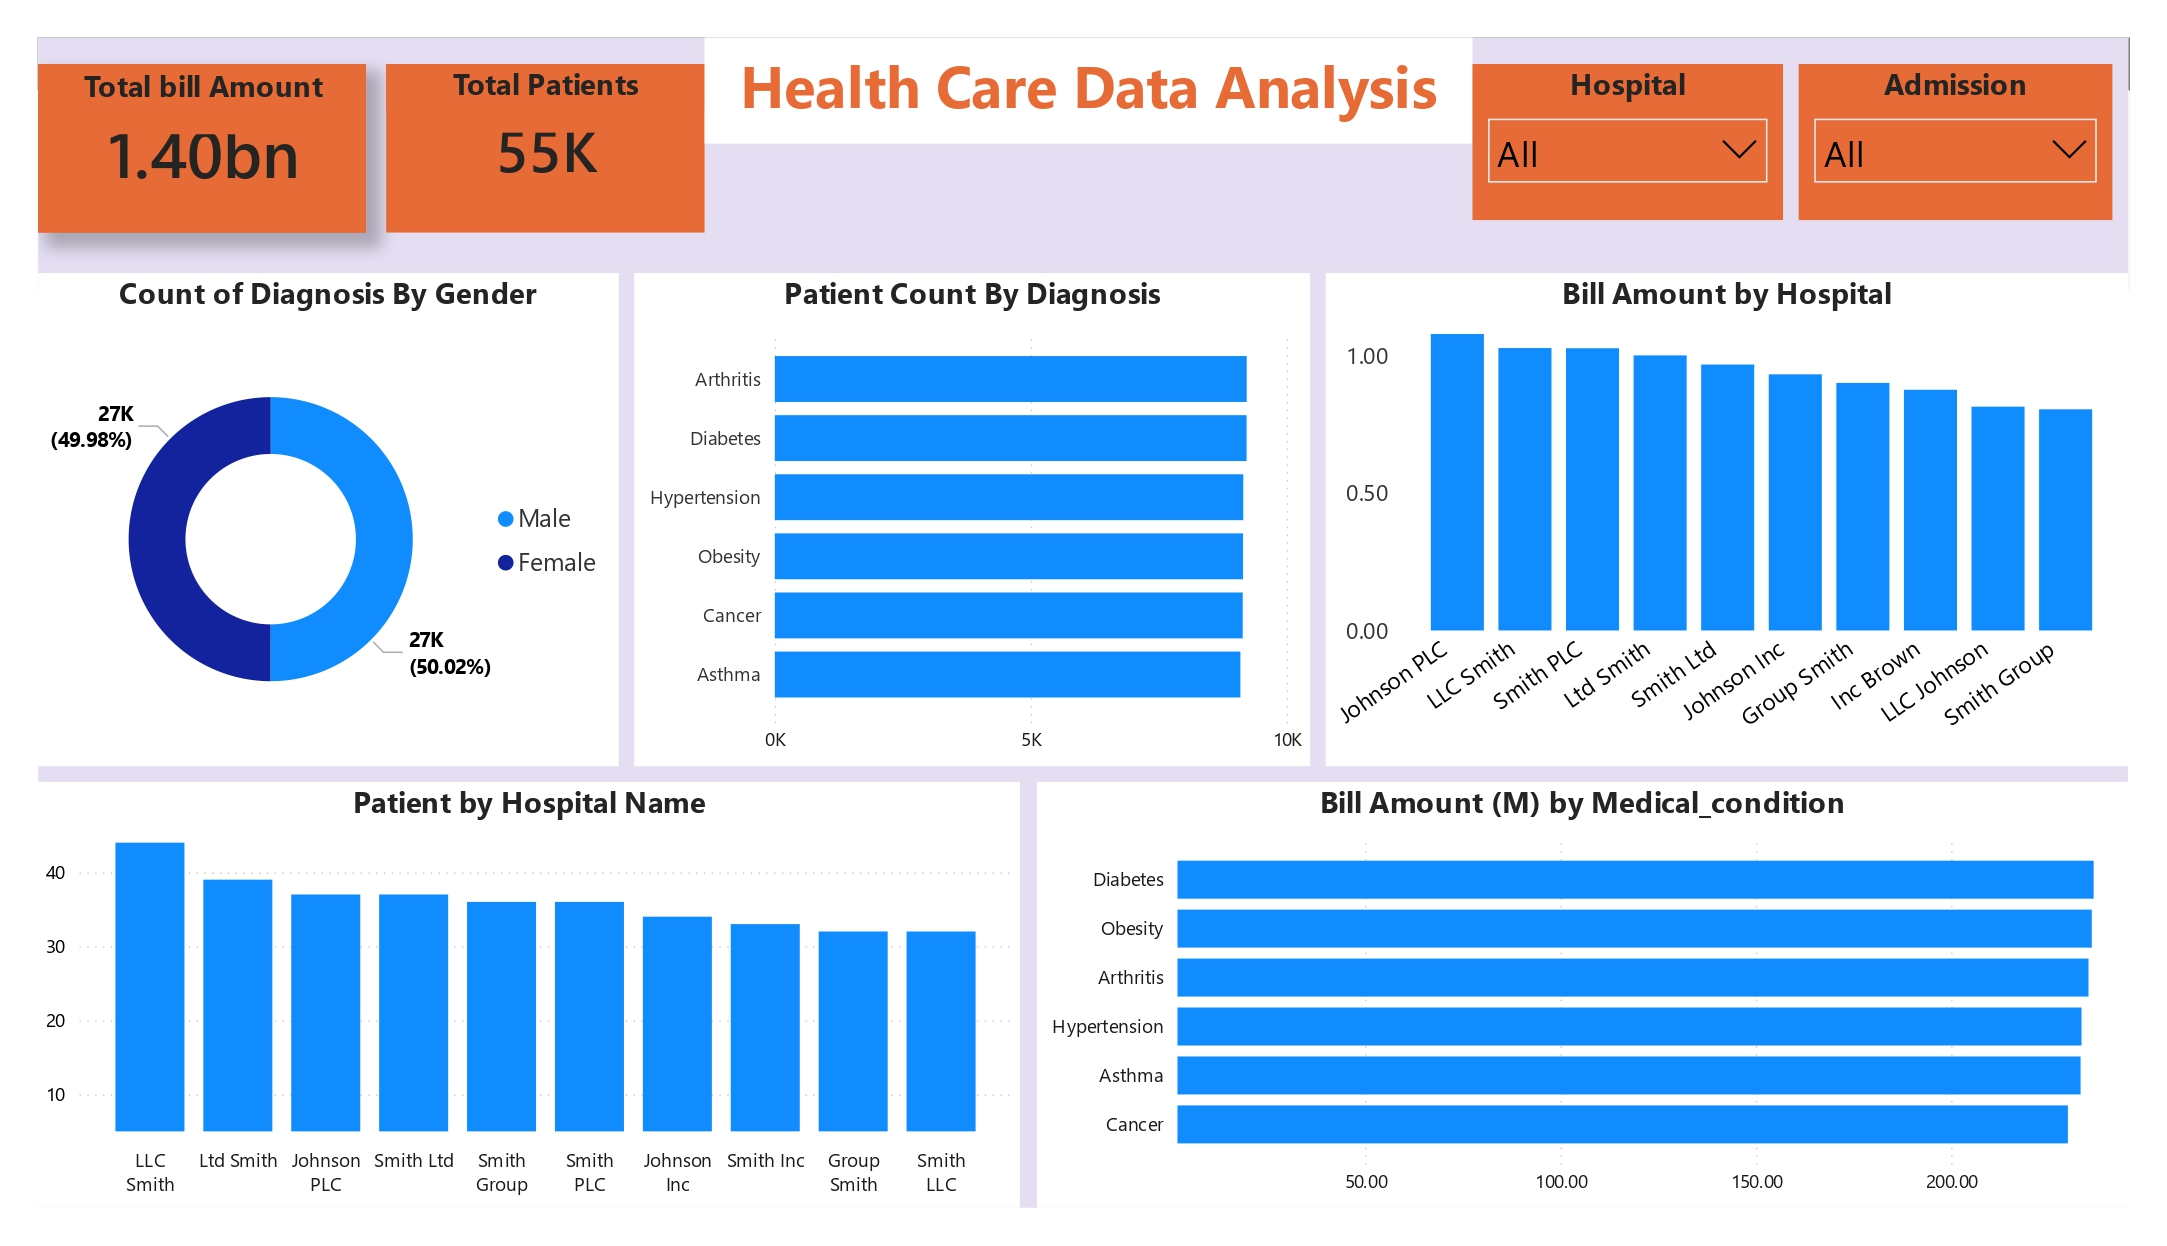

The dashboard page shown, as its layout file describes it:
{"tool":"powerbi","page":{"name":"Page 1","canvas":[1339,750],"ordinal":0},"visuals":[{"type":"cardVisual","title":"Total bill Amount","fields":{"Data":["healthcare_db healthcare_data.Total Bill Amount"]},"box":[0,16.9,210.1,108.6],"z":0},{"type":"cardVisual","title":"Total Patients","fields":{"Data":["healthcare_db healthcare_data.Total Patients"]},"box":[222.7,16.9,204.4,108.6],"z":1000},{"type":"donutChart","title":" Count of Diagnosis By Gender","fields":{"Category":["healthcare_db healthcare_data.gender"],"Y":["healthcare_db healthcare_data.Patient Count"]},"box":[0,150.8,372.2,315.8],"z":2000},{"type":"clusteredBarChart","title":"Patient Count By Diagnosis","fields":{"Category":["healthcare_db healthcare_data.medical_condition"],"Y":["healthcare_db healthcare_data.Patient Count"]},"box":[382,150.8,432.8,315.8],"z":3000},{"type":"clusteredColumnChart","title":"Patient by Hospital Name","fields":{"Category":["healthcare_db healthcare_data.hospital"],"Y":["healthcare_db healthcare_data.Patient Count"]},"box":[0,476.5,628.8,273.5],"z":4000},{"type":"clusteredBarChart","title":" Bill Amount (M) by Medical_condition","fields":{"Category":["healthcare_db healthcare_data.medical_condition"],"Y":["healthcare_db healthcare_data.Total Bill Amount (M)"]},"box":[640,476.5,699.2,273.5],"z":5000},{"type":"columnChart","title":"Bill Amount by Hospital","fields":{"Category":["healthcare_db healthcare_data.hospital"],"Y":["healthcare_db healthcare_data.Total Bill Amount (M)"]},"box":[824.7,150.8,514.6,315.8],"z":6000},{"type":"textbox","box":[427.2,0,492,67.7],"z":6001},{"type":"slicer","title":"Hospital","fields":{"Values":["healthcare_db healthcare_data.hospital"]},"box":[919.2,16.9,198.8,100.1],"z":6002},{"type":"slicer","title":"Admission","fields":{"Values":["healthcare_db healthcare_data.admission_type"]},"box":[1127.8,16.9,201.6,100.1],"z":6003}]}

Visuals, with their boxes on the page's 1339x750 design canvas (x1, y1, x2, y2). These are canvas units, not pixel positions in the 2167x1246 screenshot, which may show the page scaled, cropped or inside an application window:
"Total bill Amount" cardVisual: region(0, 17, 210, 126)
"Total Patients" cardVisual: region(223, 17, 427, 126)
" Count of Diagnosis By Gender" donutChart: region(0, 151, 372, 467)
"Patient Count By Diagnosis" clusteredBarChart: region(382, 151, 815, 467)
"Patient by Hospital Name" clusteredColumnChart: region(0, 476, 629, 750)
" Bill Amount (M) by Medical_condition" clusteredBarChart: region(640, 476, 1339, 750)
"Bill Amount by Hospital" columnChart: region(825, 151, 1339, 467)
textbox: region(427, 0, 919, 68)
"Hospital" slicer: region(919, 17, 1118, 117)
"Admission" slicer: region(1128, 17, 1329, 117)
